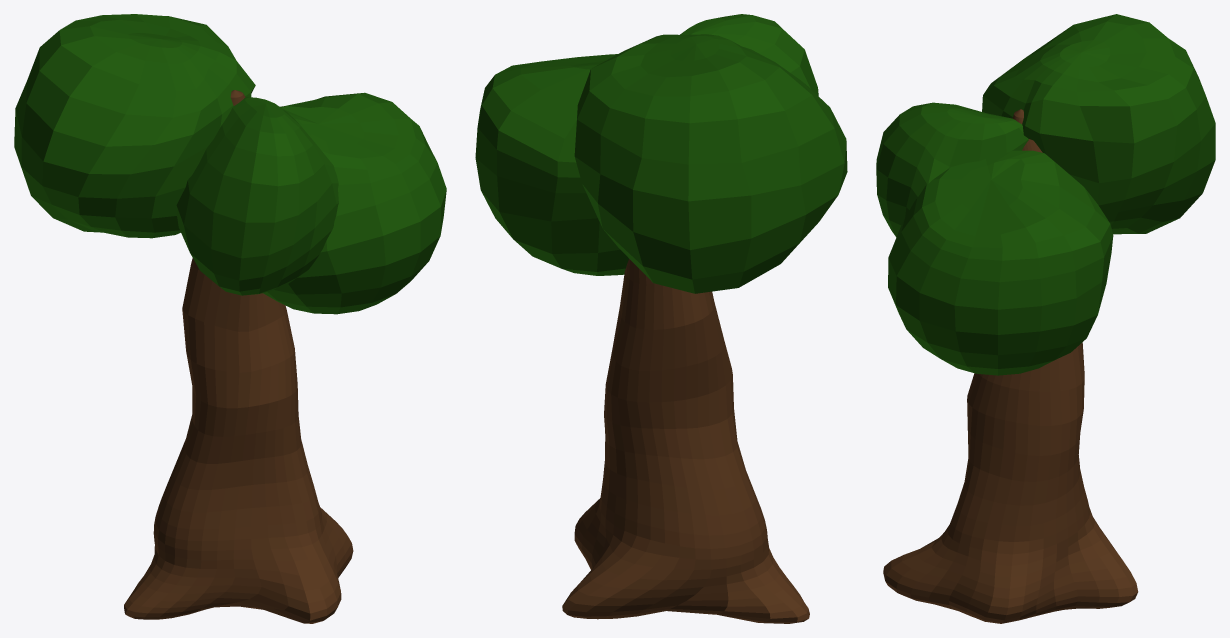
The model's file is Tree.fbx.
The picture shows the model from 3 angles, left to right: view 1: azimuth 30°, elevation 25°; view 2: azimuth 150°, elevation 25°; view 3: azimuth 270°, elevation 25°; orthographic projection. The views are drawn at different scales.
Visible parts, largest first — view 1: Leaves, Tree; view 2: Leaves, Tree; view 3: Leaves, Tree.
Boxes of the visible parts, x1=… form: Leaves: x1=14, y1=14, x2=446, y2=314; Tree: x1=124, y1=90, x2=353, y2=623; Leaves: x1=475, y1=14, x2=847, y2=293; Tree: x1=562, y1=259, x2=809, y2=623; Leaves: x1=876, y1=14, x2=1215, y2=375; Tree: x1=883, y1=109, x2=1138, y2=623.
Bounding box in the file's own units: 446 × 657 × 383.
